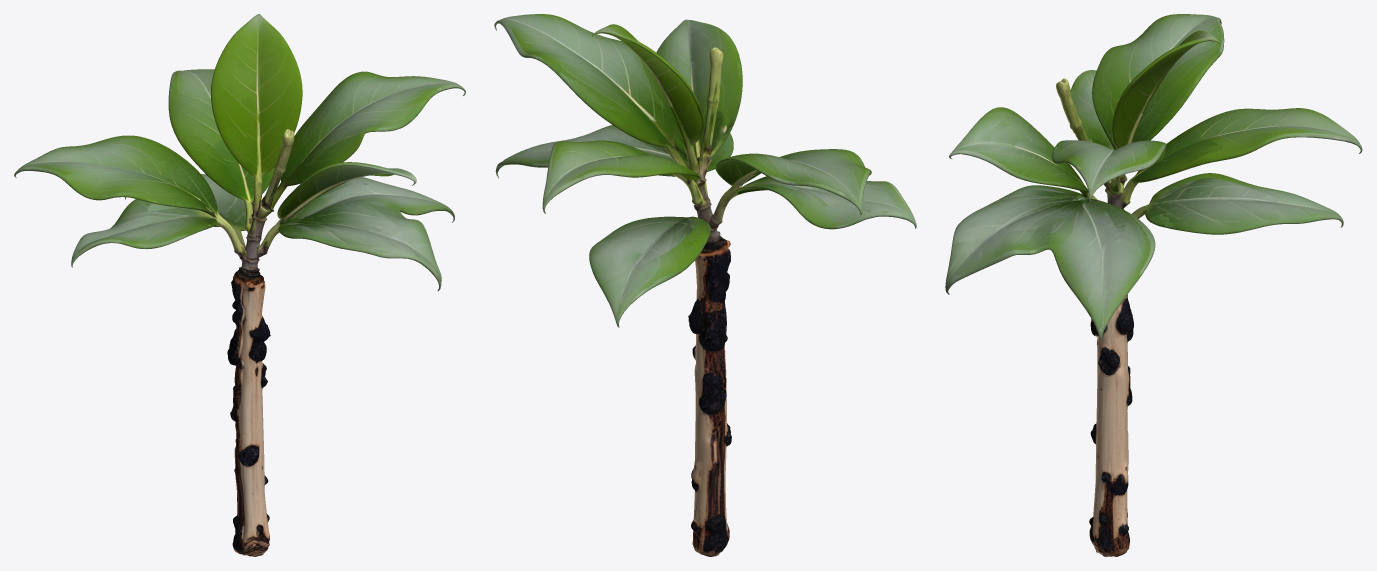
The picture shows the model from 3 angles, left to right: view 1: azimuth 30°, elevation 25°; view 2: azimuth 150°, elevation 25°; view 3: azimuth 270°, elevation 25°; orthographic projection. The views are drawn at different scales.
Visible parts, largest first — view 1: node_0; view 2: node_0; view 3: node_0.
Part boxes in pixels (x1,y1,x2,y2): node_0: (14, 14, 465, 556); node_0: (494, 14, 916, 556); node_0: (945, 14, 1362, 556).
Size of the model in its own units: 0.8985 by 1.08 by 0.748.
Materials: 1 (1 with a texture image).
